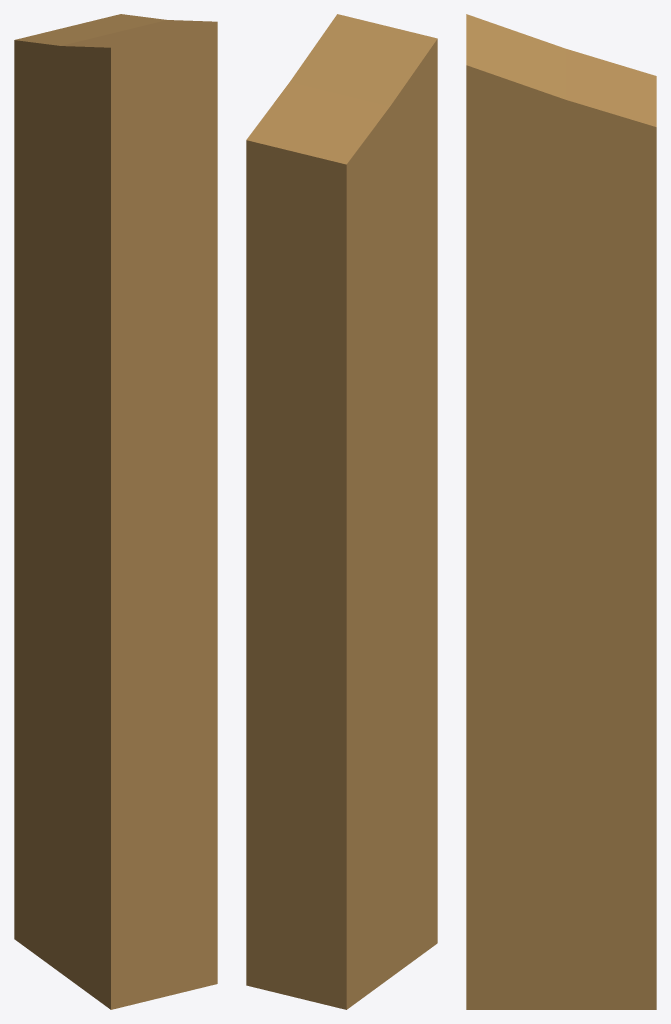
The picture shows the model from 3 angles, left to right: view 1: azimuth 30°, elevation 25°; view 2: azimuth 150°, elevation 25°; view 3: azimuth 270°, elevation 25°; orthographic projection. The views are drawn at different scales.
Parts seen in each view (by area): view 1: L1-3-S4-321-M07; view 2: L1-3-S4-321-M07; view 3: L1-3-S4-321-M07.
Part boxes in pixels (bbox=[...]): L1-3-S4-321-M07: bbox=[14, 14, 217, 1009]; L1-3-S4-321-M07: bbox=[246, 14, 437, 1009]; L1-3-S4-321-M07: bbox=[466, 14, 656, 1009].
Bounding box in the file's own units: 0.045 × 0.3876 × 0.0707.
